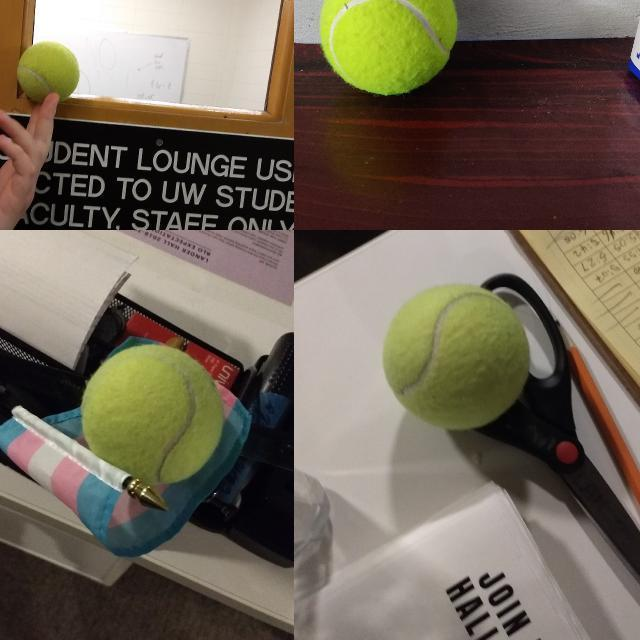tennis-ball: (382, 282, 530, 430), (79, 344, 225, 444), (318, 0, 458, 96), (16, 40, 80, 104)
